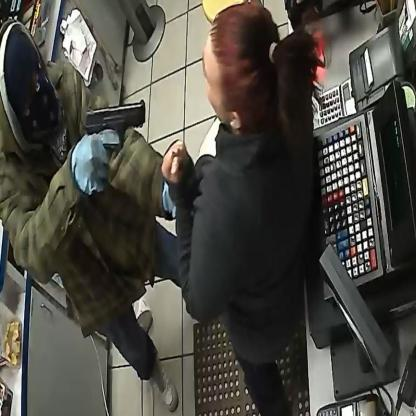pistols: (80, 99, 150, 198)
